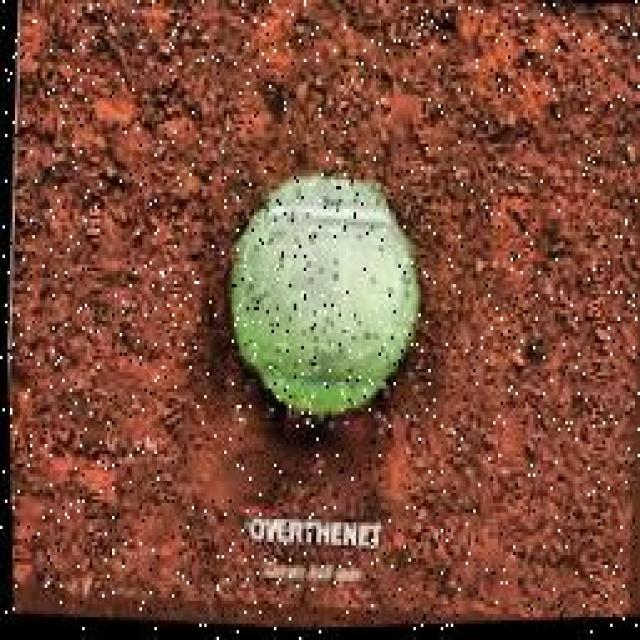tennis-ball: (216, 170, 428, 450)
